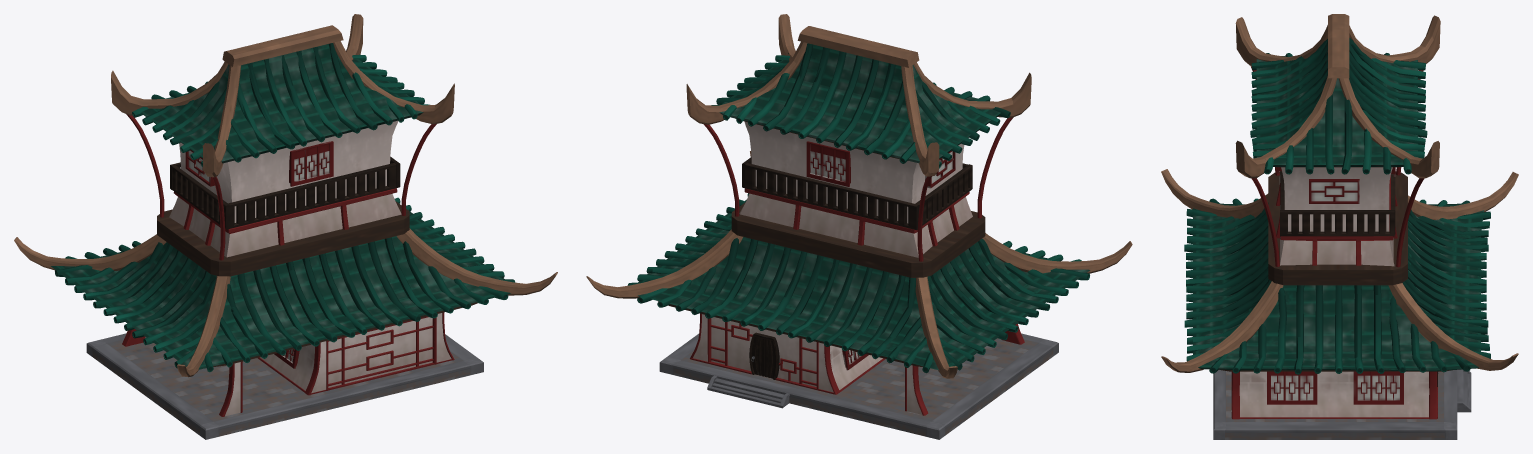
Rendered from Building03.fbx.
3 renders of one model, left to right at view 1: azimuth 30°, elevation 25°; view 2: azimuth 150°, elevation 25°; view 3: azimuth 270°, elevation 25°, orthographic. The views are drawn at different scales.
Visible parts, largest first — view 1: Building03_mesh_mesh; view 2: Building03_mesh_mesh; view 3: Building03_mesh_mesh.
Boxes of the visible parts, x1=… form: Building03_mesh_mesh: x1=14, y1=14, x2=557, y2=439; Building03_mesh_mesh: x1=586, y1=14, x2=1132, y2=439; Building03_mesh_mesh: x1=1161, y1=14, x2=1518, y2=439.
Bounding box in the file's own units: 200 × 161 × 159.
1 material, 1 textured.
